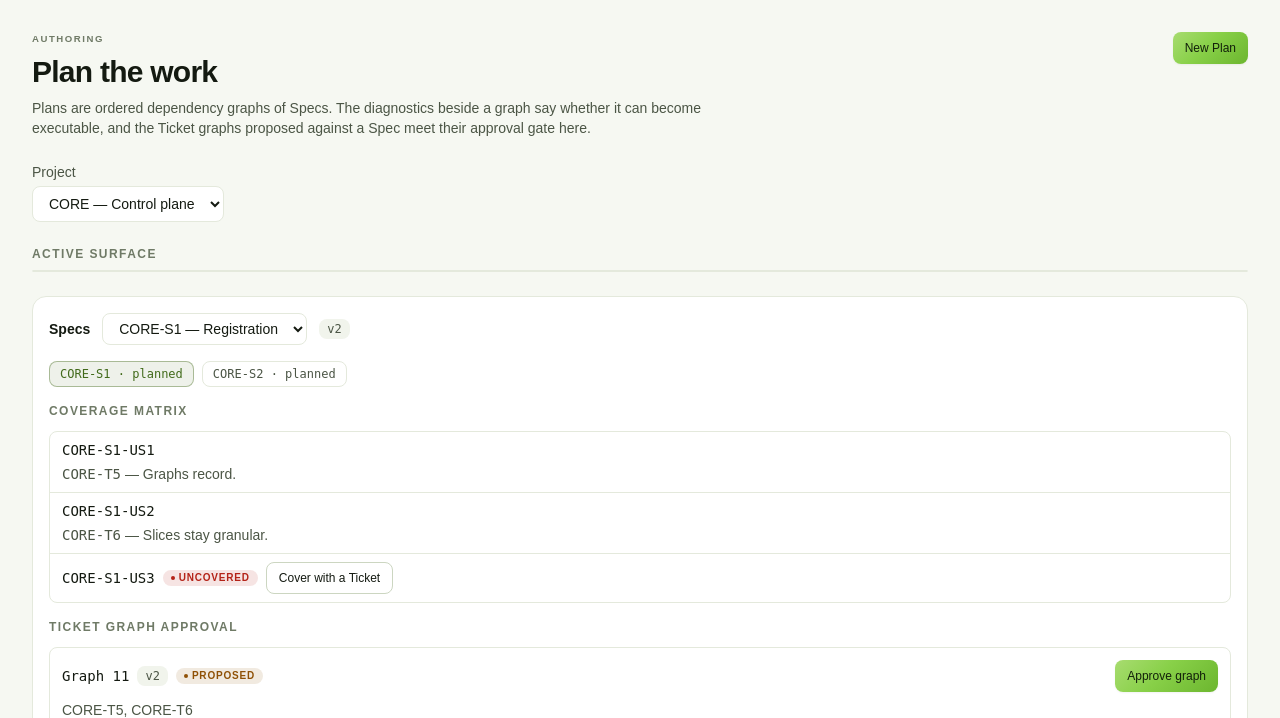
Test case: planning graph approval › approves through the production command against the proposal’s own version
Click the button with test id "graph-approve-11".
click(1167, 676)  # box [1115, 660, 1218, 692]
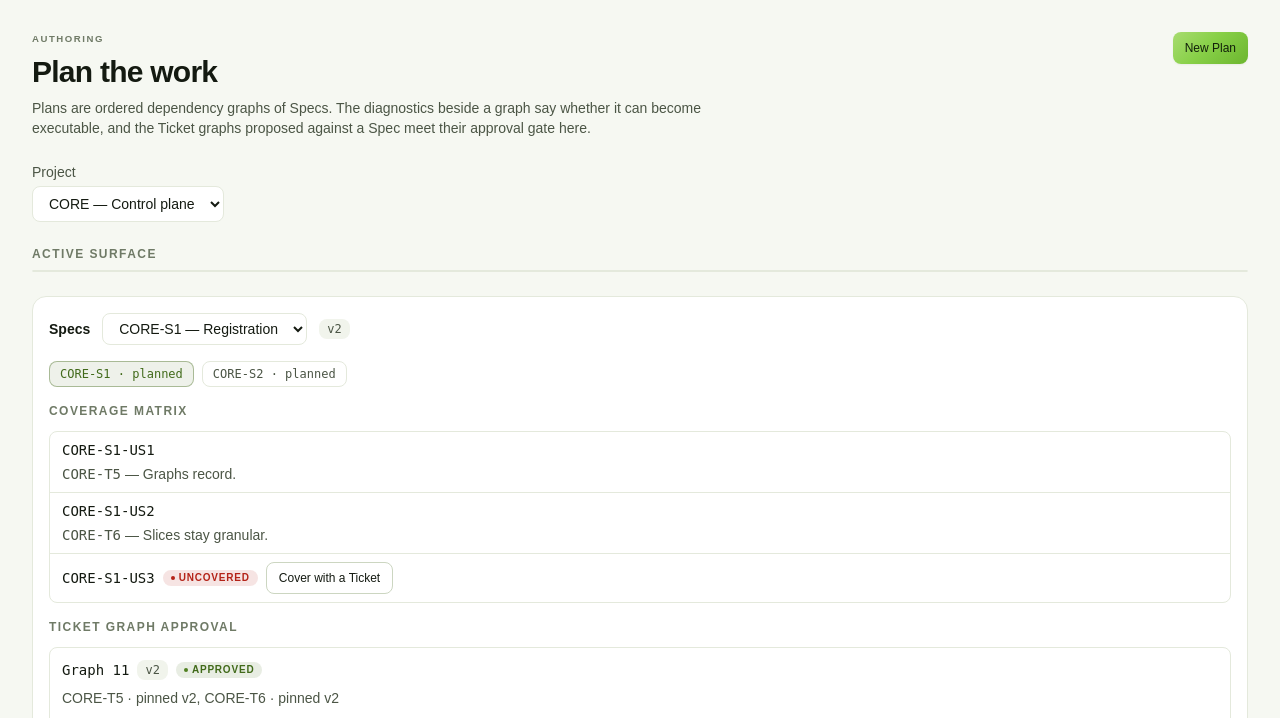
Now the element with test id "graph-state-11" reads "approved", box [192, 664, 254, 675]
